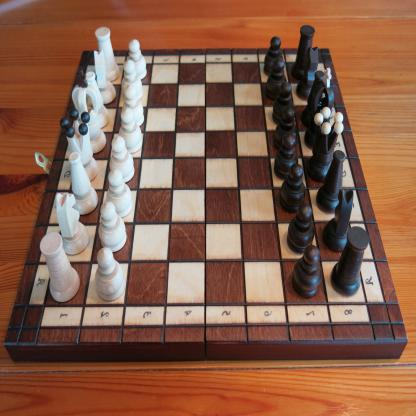black-bishop: (316, 149, 345, 214), (301, 70, 325, 128)
black-king: (304, 67, 338, 150)
black-knight: (322, 188, 354, 252), (296, 46, 319, 101)
black-pawn: (291, 244, 323, 299), (286, 202, 316, 254), (279, 162, 306, 214), (273, 133, 299, 180), (274, 105, 298, 151), (272, 81, 294, 126), (266, 58, 288, 100), (263, 36, 284, 77)
black-queen: (306, 106, 344, 183)
black-rook: (329, 226, 370, 298), (291, 24, 316, 80)
white-bishop: (68, 151, 99, 216), (85, 71, 111, 129)
white-king: (71, 68, 107, 154)
white-knight: (56, 192, 90, 256), (93, 49, 116, 105)
white-pawn: (95, 246, 126, 302), (98, 202, 127, 255), (106, 168, 133, 218), (109, 137, 135, 183), (118, 108, 143, 154), (121, 85, 144, 129), (121, 59, 143, 102), (127, 39, 147, 82)
white-queen: (60, 108, 98, 183)
white-rook: (39, 231, 81, 304), (95, 26, 121, 83)
